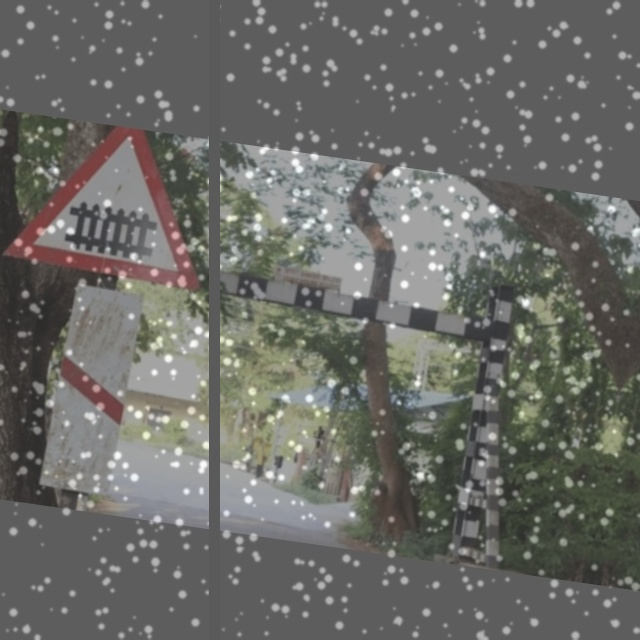Guarded_Level_Crossing: (16, 122, 217, 293)
